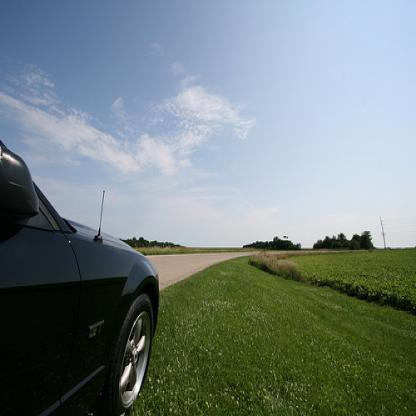car: (0, 136, 160, 415)
